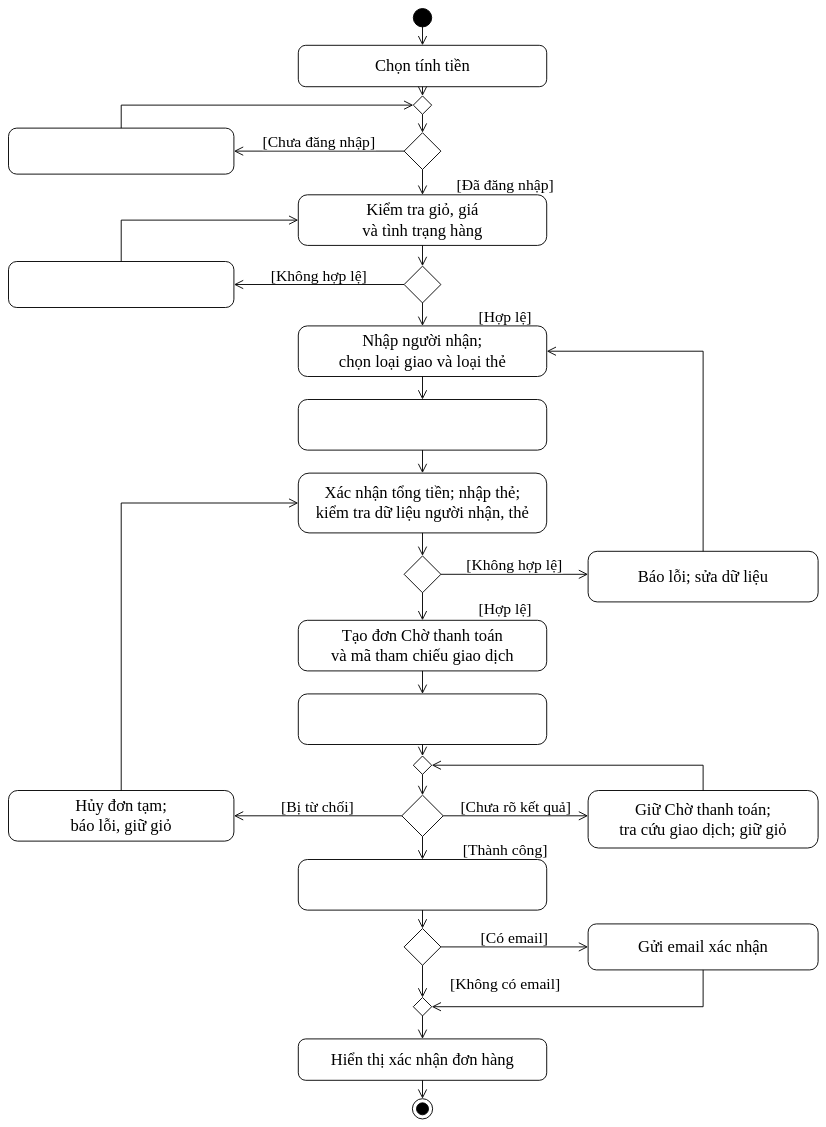
Image size: 826x1127. Some labels were removed from this diagram. The centre of each missing label's shape, as x and y in pixels:
Báo lỗi; sửa giỏ: point (121, 284)
Gọi dịch vụ kiểm tra thẻ và xử lý thanh toán: point (422, 719)
Lưu đơn đã thanh toán; làm rỗng giỏ: point (422, 884)
Tính phí giao, lệ phí thẻ và tổng tiền: point (422, 424)
Đăng nhập hoặc đăng ký: point (121, 150)
